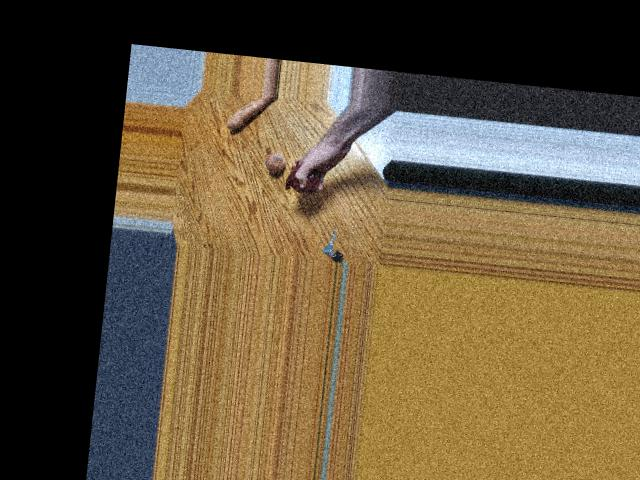onion: (263, 151, 289, 174)
